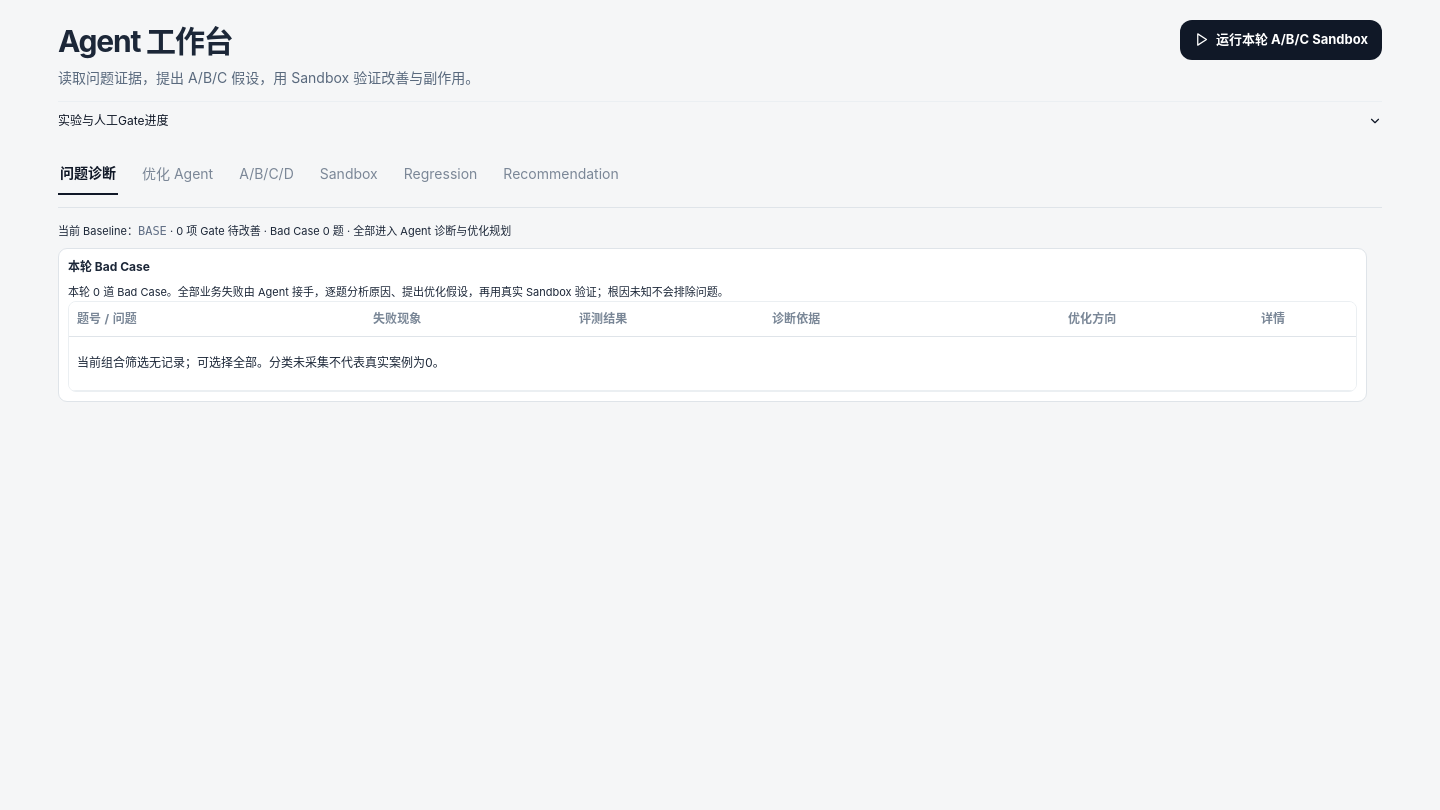
Test: keeps all candidate fields in the same order, including empty and incomplete records, without mutating evidence
Click the button "A/B/C/D": click(266, 174) 237,152 -> 296,195
(page scrolled)
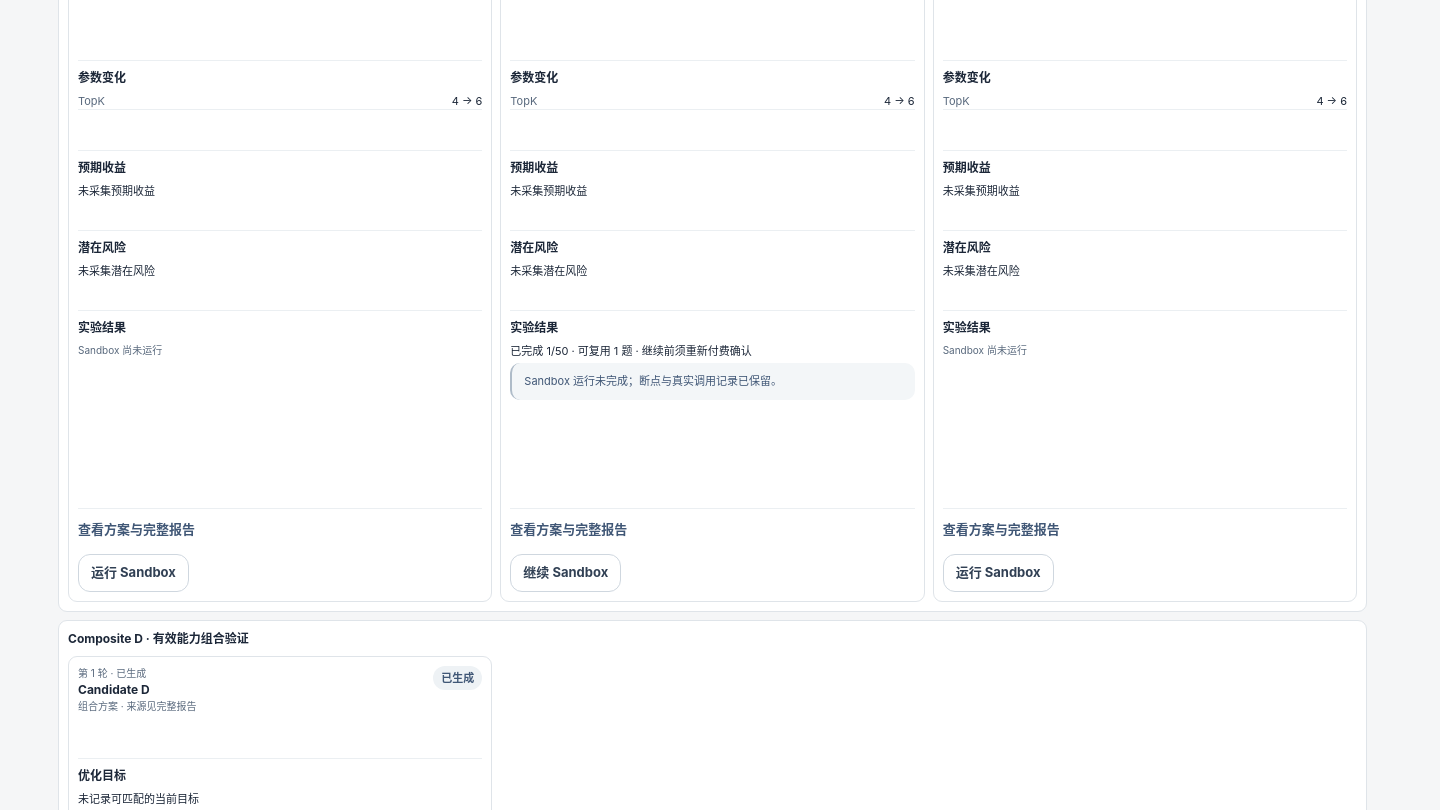
Result: the element with class "candidate-card-footer" showing "查看方案与完整报告 运行 Sandbox" is shown at 78,508 -> 482,592
Result: the element with class "candidate-card-footer" showing "查看方案与完整报告 继续 Sandbox" is shown at 510,508 -> 915,592
Result: the element with class "candidate-story-block" shows "已完成 1/50" at 510,310 -> 915,500
